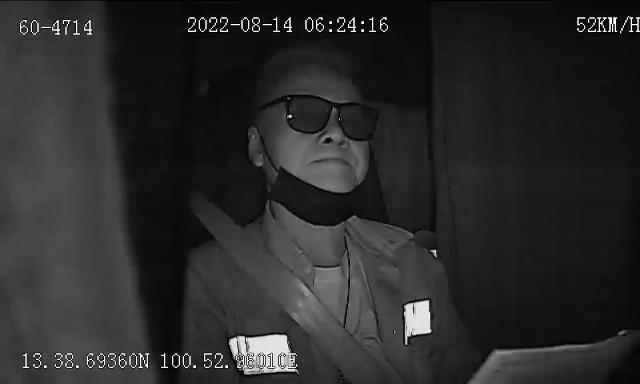Seatbelt: (205, 218, 388, 384)
